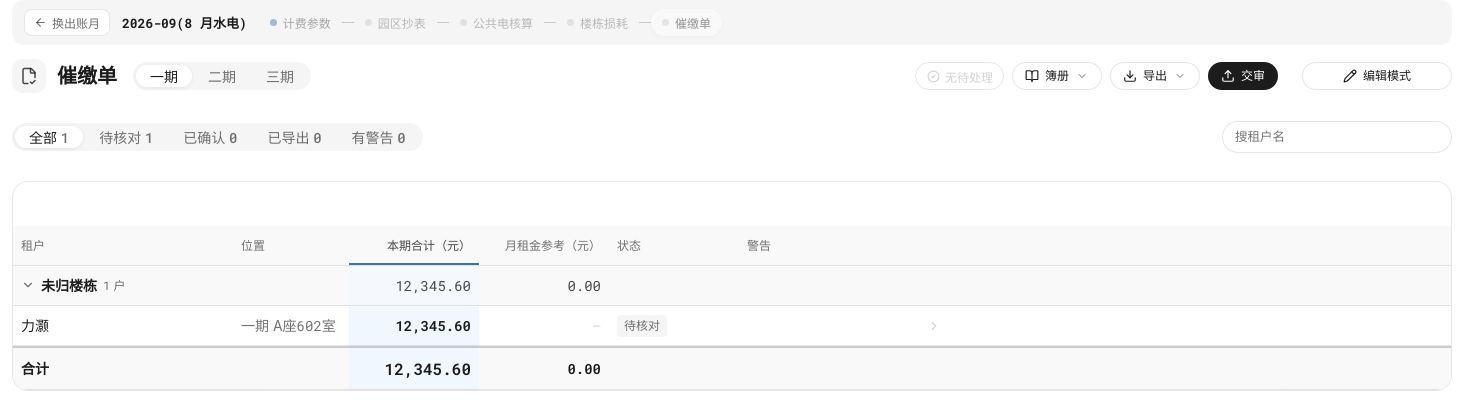
催缴单 · 写操作的编辑态守卫 › ❗canRun / canIssue 把 editMode 编进权限计算式 —— 浏览态没有写入口
Expected: the element with class "bn-actions" does not show "重新生成"
Expected: the element with class "bn-tools" does not show "批量确认"
Click the button with class "fp-emb" at (1377, 76), box [1302,62,1452,90]
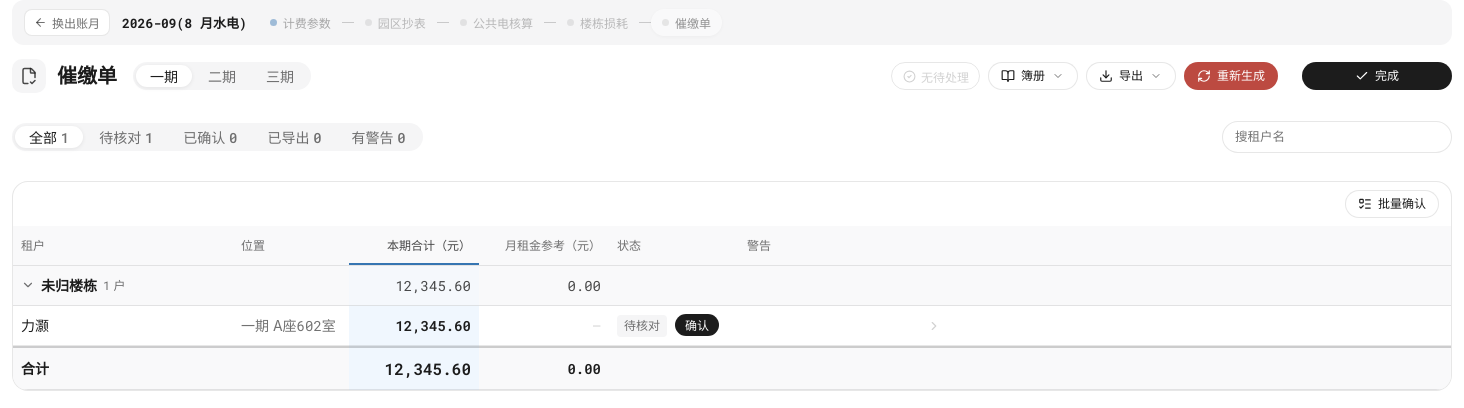
Now the element with class "bn-actions" shows "重新生成", box [1184,62,1278,90]
Now the element with class "bn-tools" reads "批量确认", box [1345,190,1439,218]
